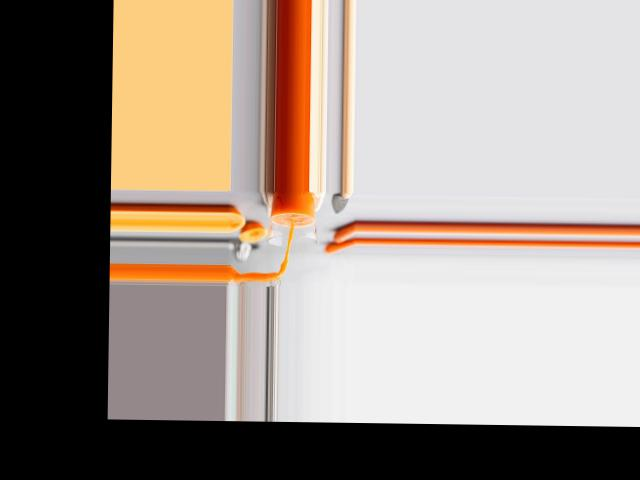carrot: (323, 219, 355, 252)
